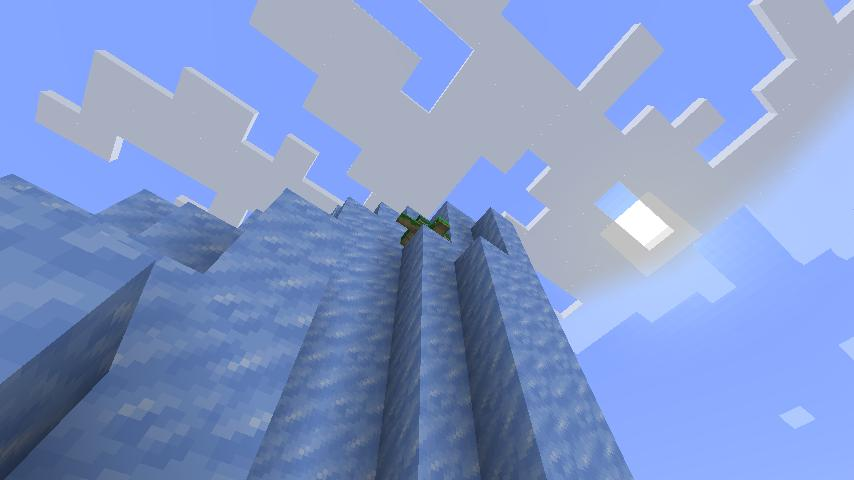turtle: (395, 209, 451, 252)
